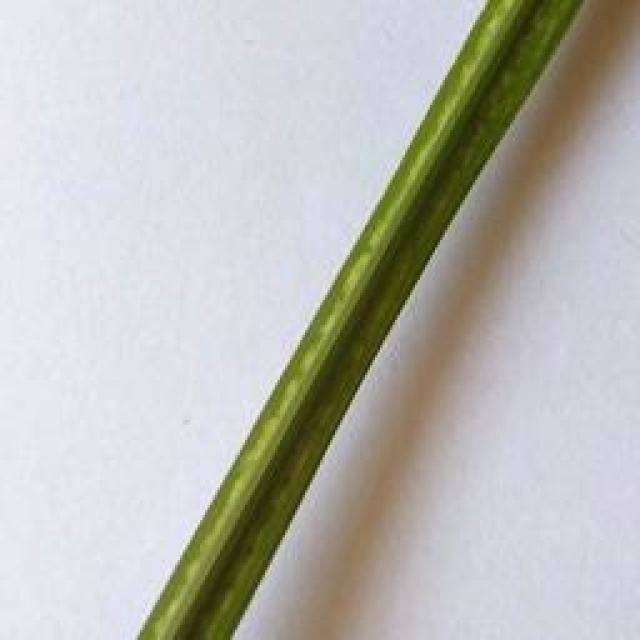Healthy-Plant: (138, 0, 587, 640)
